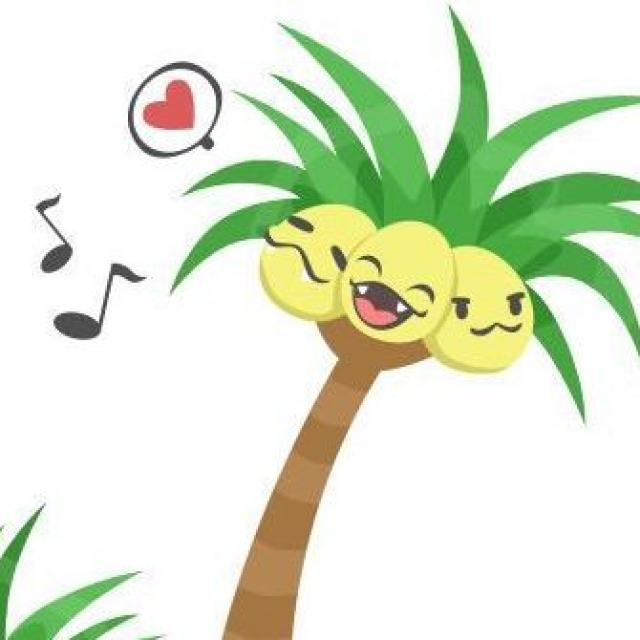Exeggutor: (210, 139, 547, 640)
